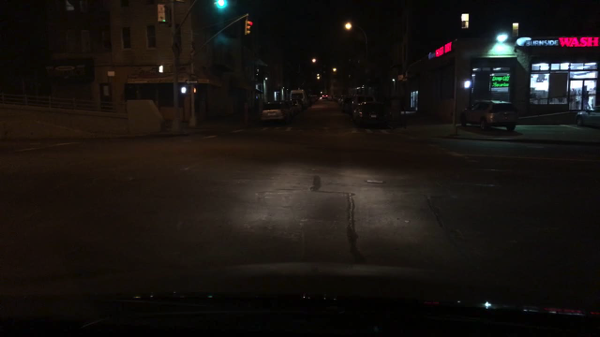car: (460, 100, 517, 132), (351, 102, 389, 126), (261, 102, 291, 125), (575, 105, 599, 127), (352, 93, 376, 110), (290, 90, 308, 107), (281, 100, 302, 114), (337, 95, 354, 106), (288, 98, 306, 108), (337, 95, 349, 105), (309, 95, 316, 103), (333, 95, 340, 103), (327, 96, 333, 102), (314, 96, 320, 101)
traffic light: (156, 4, 165, 22), (245, 19, 253, 35), (215, 1, 229, 9), (181, 87, 188, 94), (192, 87, 196, 93)
traffic sign: (186, 81, 199, 85), (190, 74, 199, 79), (108, 71, 115, 77), (397, 76, 403, 81), (403, 78, 408, 81)
